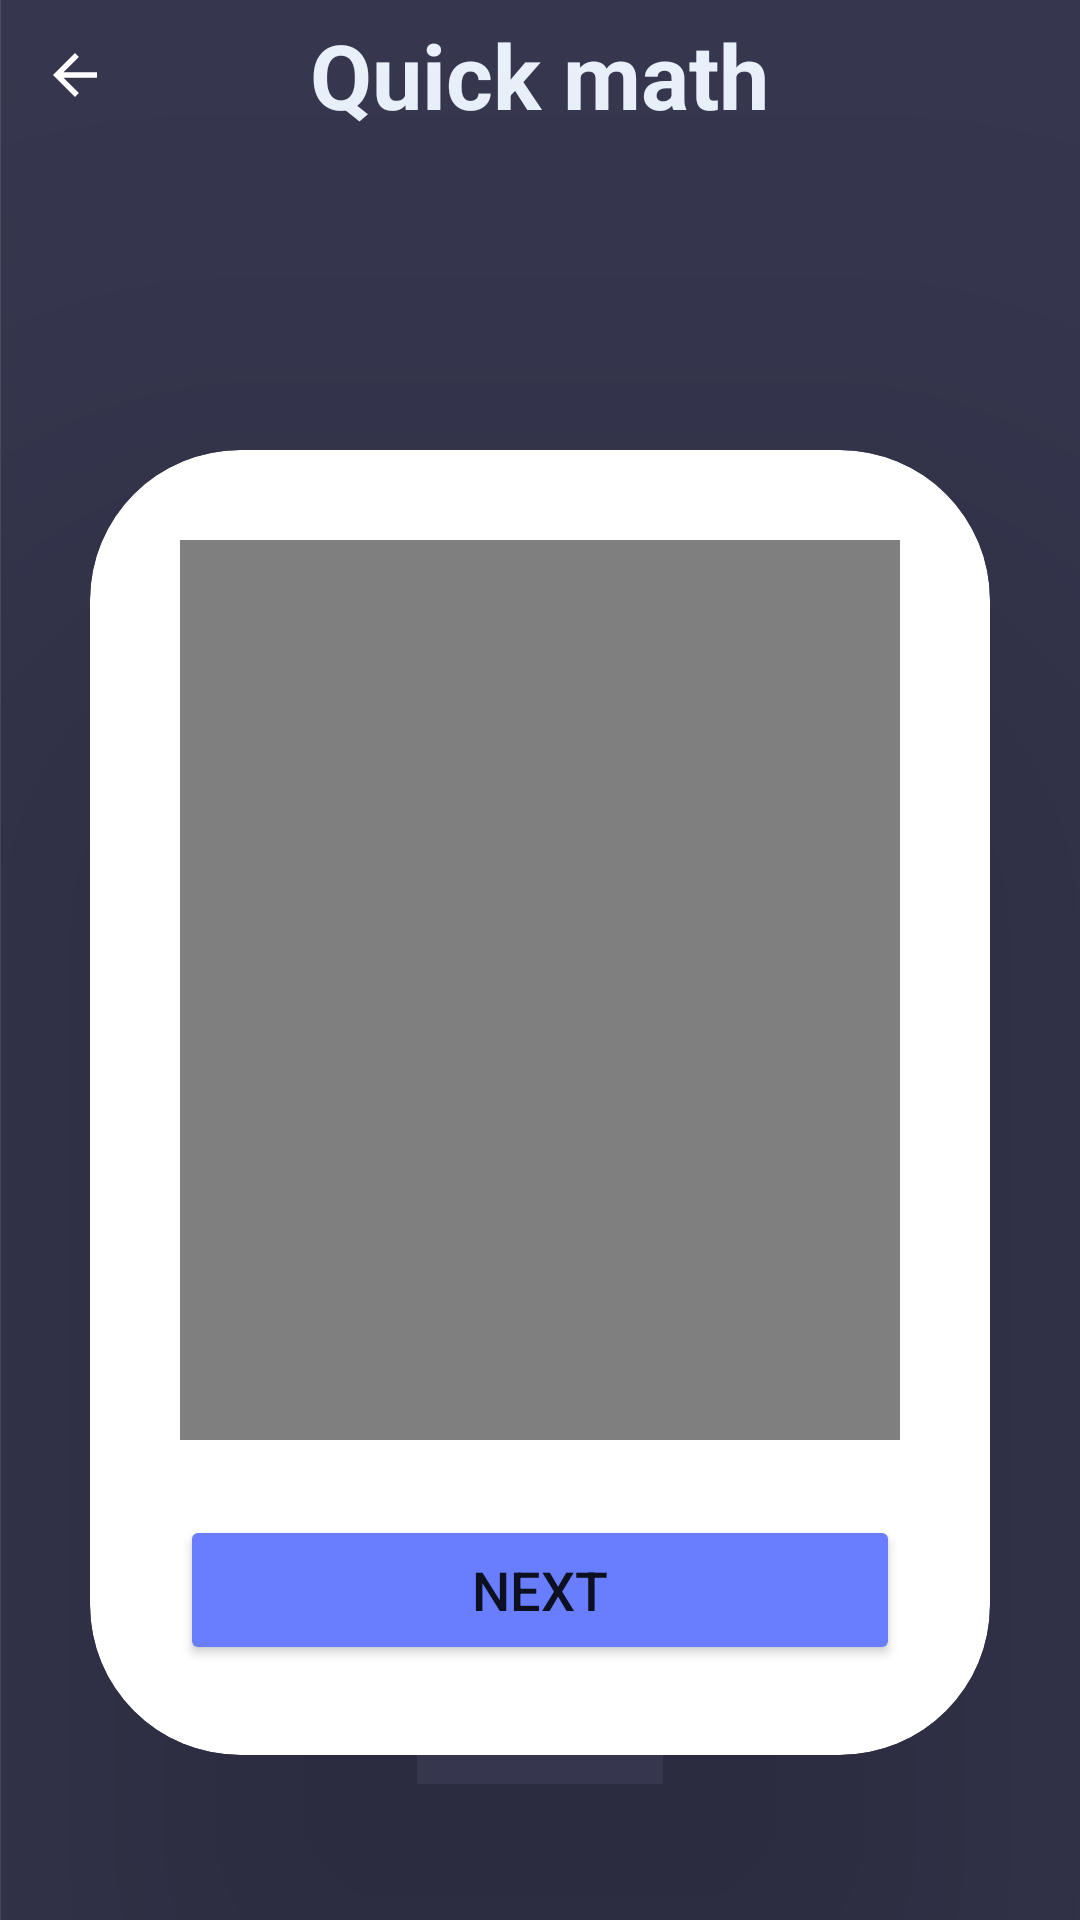

Point at icon controls on the screen. Image size 1080*1920, points as [x,y].
backbutton: [75,75]
